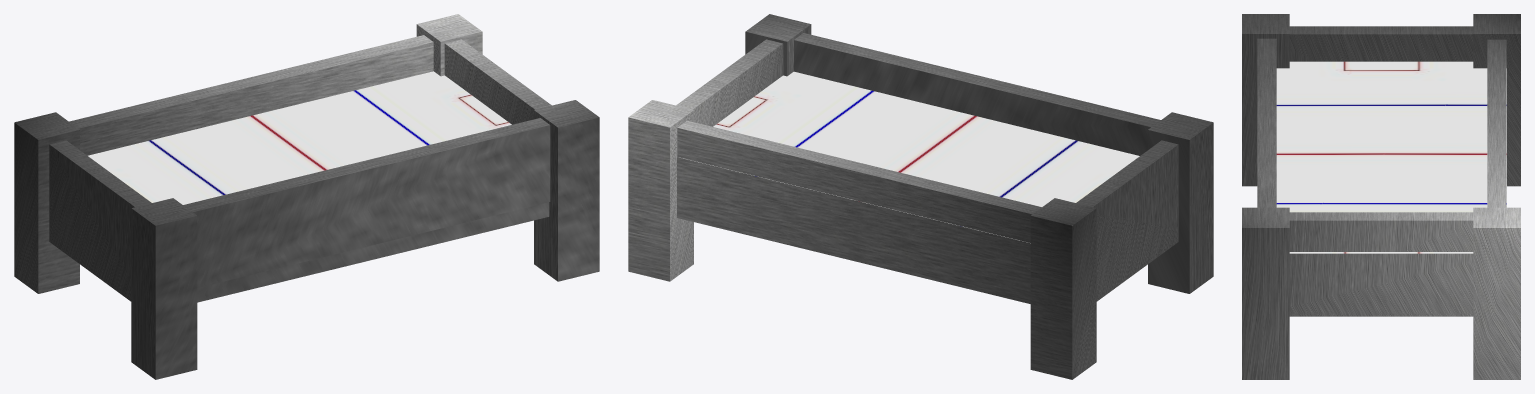
Rendered from airhockeytable.obj.
3 renders of one model, left to right at view 1: azimuth 30°, elevation 25°; view 2: azimuth 150°, elevation 25°; view 3: azimuth 270°, elevation 25°, orthographic.
Visible parts, largest first — view 1: table; view 2: table; view 3: table.
Boxes of the visible parts, x1,y1,x2,y2 form: table: [14, 14, 599, 379]; table: [628, 14, 1213, 379]; table: [1242, 14, 1520, 379].
Size of the model in its own units: 4.33 by 1.43 by 2.39.
3 materials, 3 textured.
